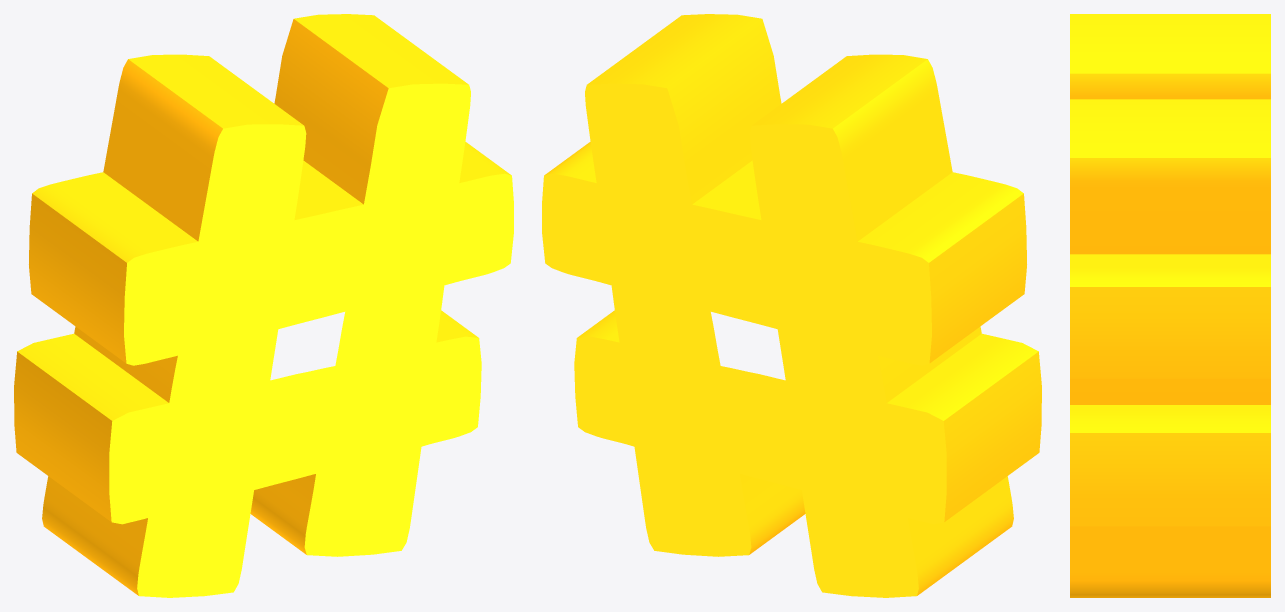
File: symbol#_Zyzol_Yellow.glb
3 views of the same model, side by side, from view 1: azimuth 30°, elevation 25°; view 2: azimuth 150°, elevation 25°; view 3: azimuth 270°, elevation 25° (orthographic). The views are drawn at different scales.
Visible parts, largest first — view 1: #_Zyzol_Yellow; view 2: #_Zyzol_Yellow; view 3: #_Zyzol_Yellow.
Part boxes in pixels (bbox=[...]): #_Zyzol_Yellow: bbox=[14, 14, 513, 597]; #_Zyzol_Yellow: bbox=[542, 14, 1041, 597]; #_Zyzol_Yellow: bbox=[1070, 14, 1270, 597].
Size of what is drawn, in the model's own units: 0.1106 by 0.1218 by 0.045.
2 materials, 2 textured.
